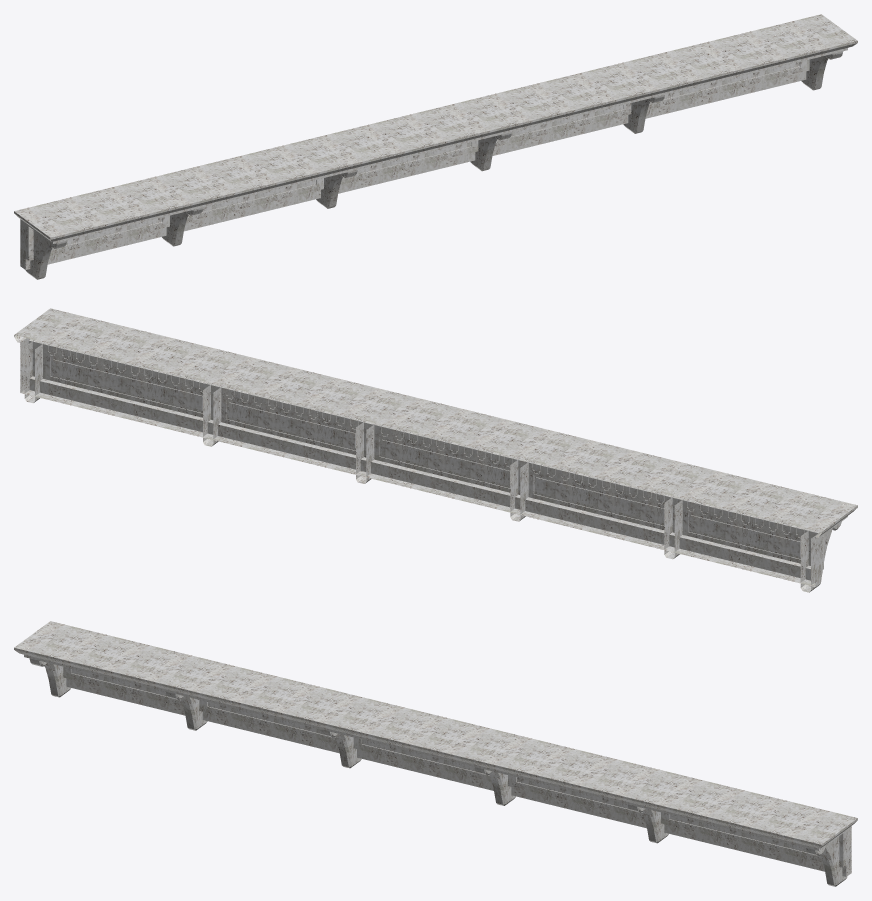
The model's file is BUILDING_topFloor_ornaments_01.FBX.
The picture shows the model from 3 angles, top to bottom: view 1: azimuth 30°, elevation 25°; view 2: azimuth 150°, elevation 25°; view 3: azimuth 330°, elevation 25°; orthographic projection.
Visible parts, largest first — view 1: BUILDING_topFloor_ornaments_01; view 2: BUILDING_topFloor_ornaments_01; view 3: BUILDING_topFloor_ornaments_01.
Part boxes in pixels (x1,y1,x2,y2): BUILDING_topFloor_ornaments_01: [14, 14, 857, 279]; BUILDING_topFloor_ornaments_01: [14, 308, 857, 592]; BUILDING_topFloor_ornaments_01: [14, 621, 857, 886].
Size of the model in its own units: 19 by 1.44 by 1.49.
1 material, 1 textured.
